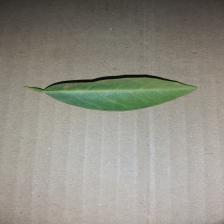healthy: (22, 77, 198, 112)
